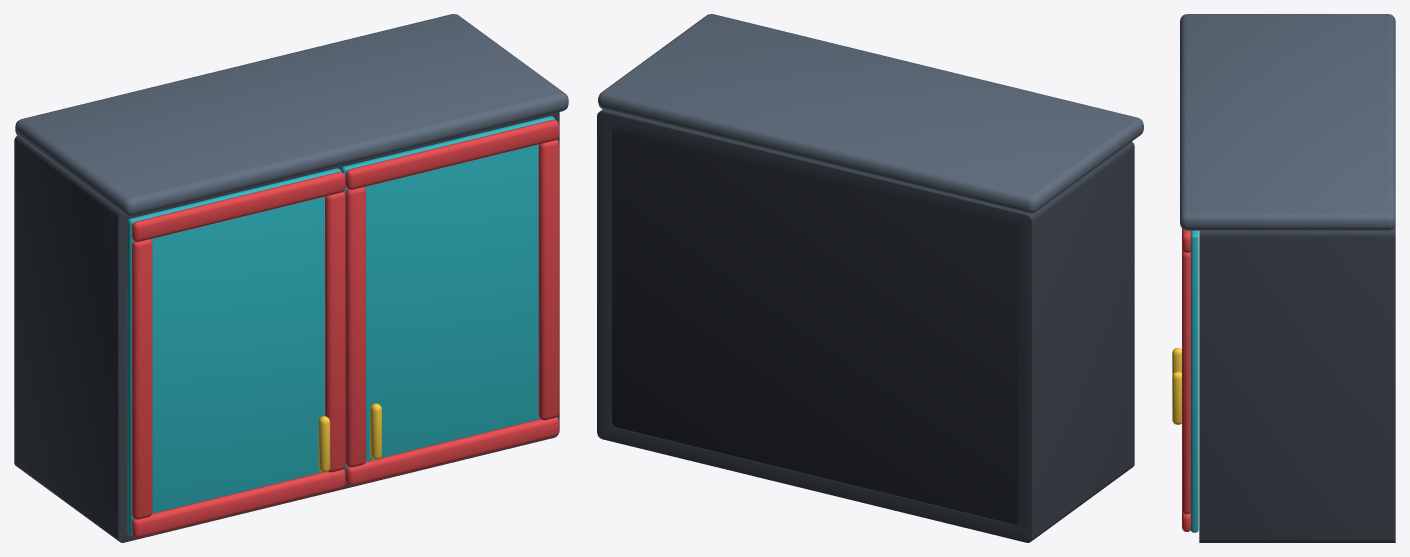
Rendered from armario_parede_2portas_grafite.glb.
3 views of the same model, side by side, from view 1: azimuth 30°, elevation 25°; view 2: azimuth 150°, elevation 25°; view 3: azimuth 270°, elevation 25° (orthographic). The views are drawn at different scales.
Parts seen in each view (by area): view 1: armario_parede_2portas_grafite, porta_1, porta_2; view 2: armario_parede_2portas_grafite; view 3: armario_parede_2portas_grafite, porta_2.
Boxes of the visible parts, left/top/right/bottom form: armario_parede_2portas_grafite: left=14, top=14, right=568, bottom=542; porta_1: left=127, top=168, right=345, bottom=538; porta_2: left=341, top=116, right=559, bottom=485; armario_parede_2portas_grafite: left=597, top=14, right=1143, bottom=542; armario_parede_2portas_grafite: left=1180, top=14, right=1395, bottom=542; porta_2: left=1172, top=228, right=1198, bottom=532.
Bounding box in the file's own units: 0.798 × 0.6 × 0.3687.
1 material, 1 textured.
